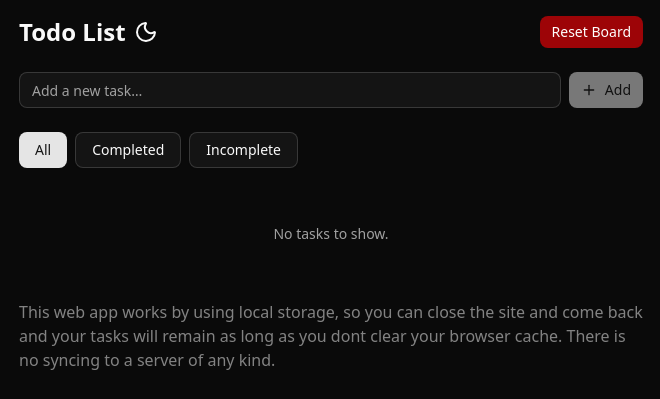
Test case: Todo App › adds a new task to the list
Type "New Feature" into the field with placeholder "Add a new task…" at (290, 90), box x1=19 y1=72 x2=561 y2=108
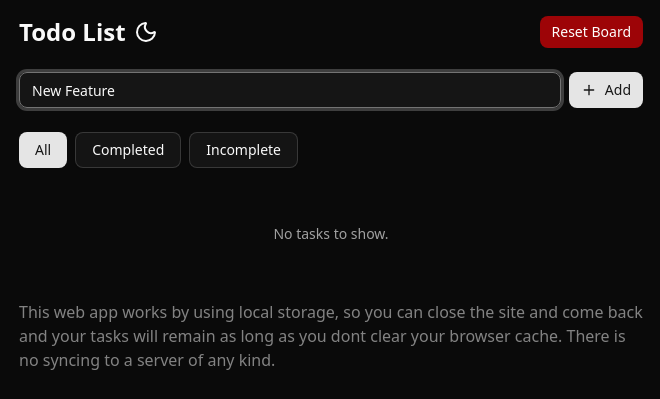
Click the button "Add" at (606, 90), box x1=569 y1=72 x2=643 y2=108
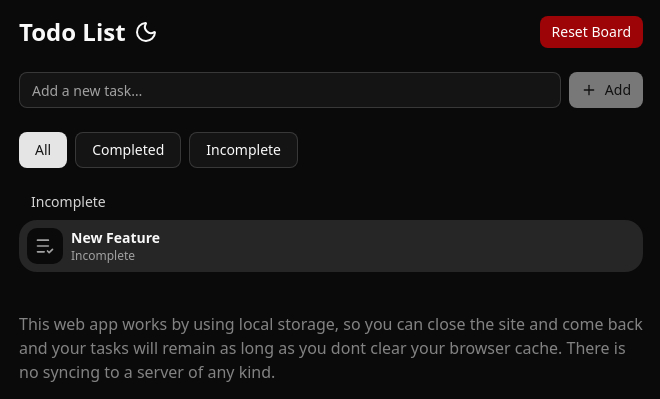
expect the text "New Feature" is shown: met, box x1=71 y1=228 x2=160 y2=248
